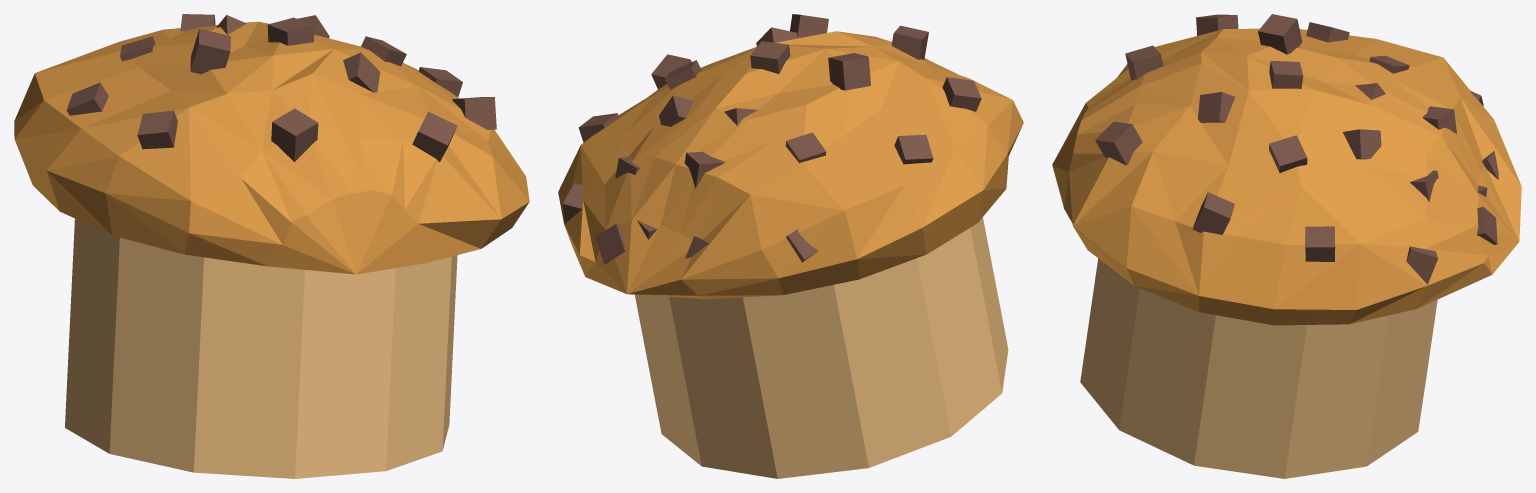
File: Muffin.fbx
The picture shows the model from 3 angles, left to right: view 1: azimuth 30°, elevation 25°; view 2: azimuth 150°, elevation 25°; view 3: azimuth 270°, elevation 25°; orthographic projection. The views are drawn at different scales.
Visible parts, largest first — view 1: group_1037164194; view 2: group_1037164194; view 3: group_1037164194.
Part boxes in pixels (<box>): group_1037164194: <box>14,14,529,478</box>; group_1037164194: <box>558,14,1023,478</box>; group_1037164194: <box>1052,14,1521,478</box>.
Bounding box in the file's own units: 15.46 × 14.05 × 15.84.
